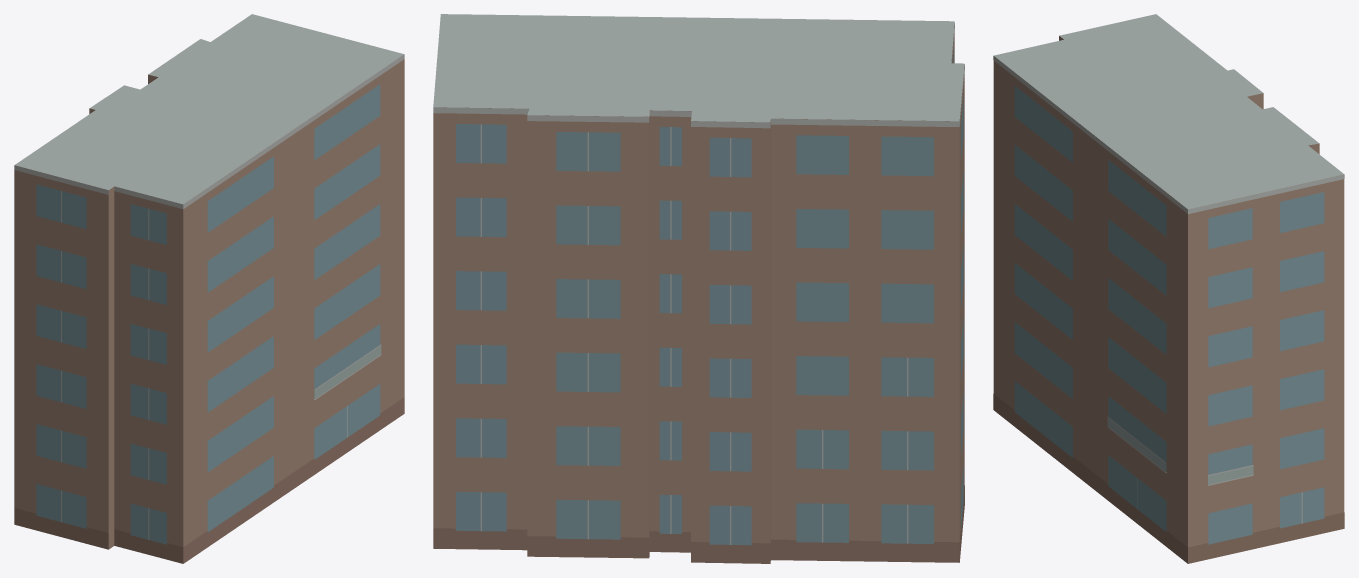
The model's file is survey-upis-32727201.glb.
The picture shows the model from 3 angles, left to right: view 1: azimuth 30°, elevation 25°; view 2: azimuth 150°, elevation 25°; view 3: azimuth 270°, elevation 25°; orthographic projection. The views are drawn at different scales.
Parts seen in each view (by area): view 1: survey-upis-32727201.tmp; view 2: survey-upis-32727201.tmp; view 3: survey-upis-32727201.tmp.
Boxes of the visible parts, <box> form: survey-upis-32727201.tmp: <box>14,14,404,563</box>; survey-upis-32727201.tmp: <box>433,14,964,563</box>; survey-upis-32727201.tmp: <box>993,14,1344,563</box>.
Bounding box in the file's own units: 21.66 × 18.3 × 16.43.
